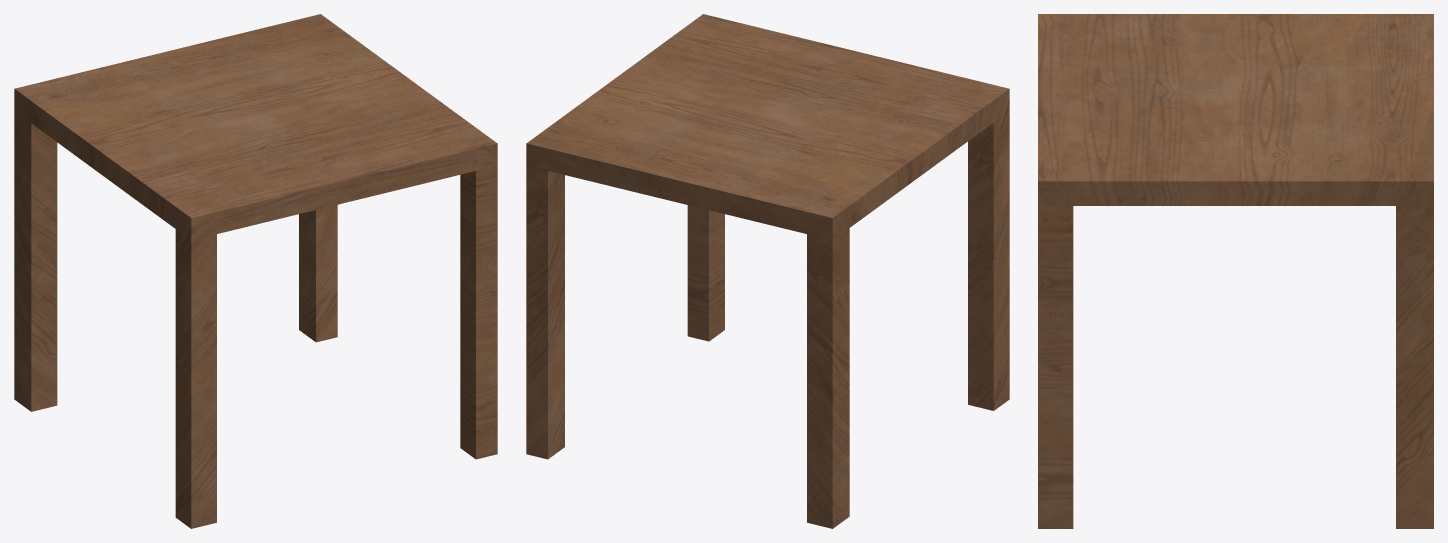
Rendered from mesa.fbx.
3 renders of one model, left to right at view 1: azimuth 30°, elevation 25°; view 2: azimuth 150°, elevation 25°; view 3: azimuth 270°, elevation 25°, orthographic. The views are drawn at different scales.
Parts seen in each view (by area): view 1: mesa; view 2: mesa; view 3: mesa.
Part boxes in pixels (box(x1,y1,x2,y2)): mesa: box(14, 14, 497, 528); mesa: box(526, 14, 1009, 528); mesa: box(1038, 14, 1433, 528).
Size of the model in its own units: 137 by 132 by 137.
